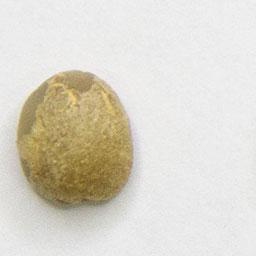premium: (13, 67, 138, 213)
